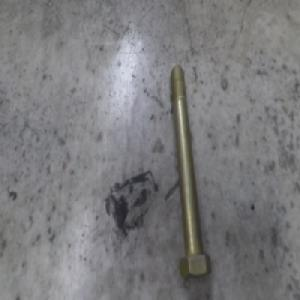Bolt: (170, 66, 213, 281)
